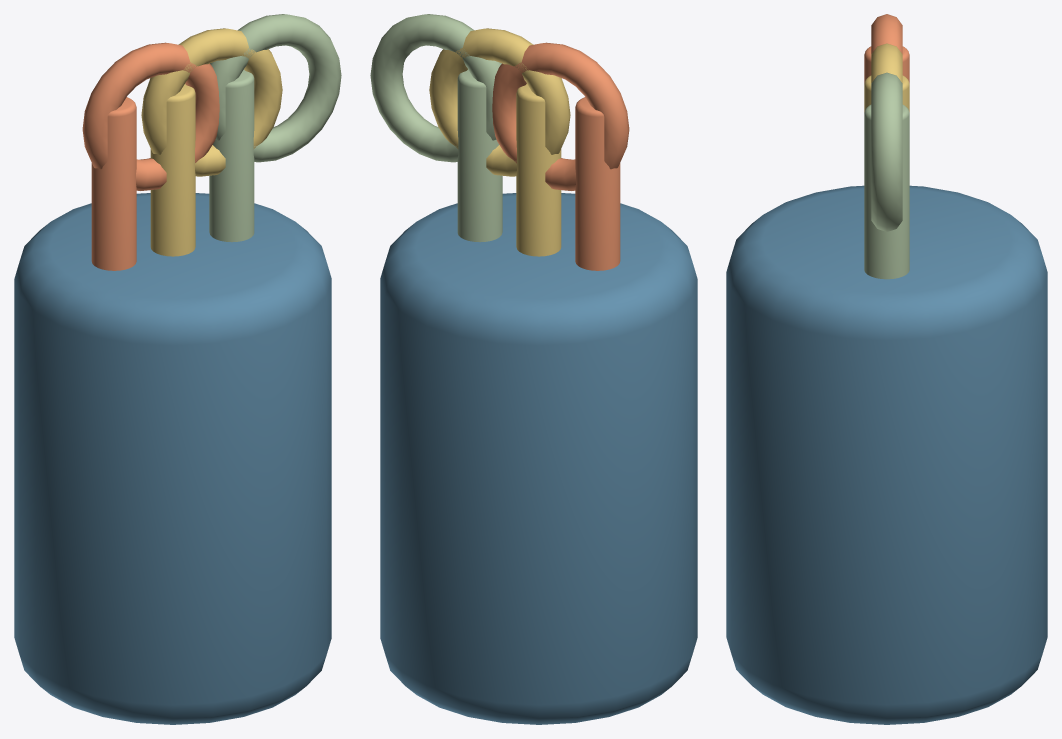
Rendered from umbrella-stand.glb.
3 renders of one model, left to right at view 1: azimuth 30°, elevation 25°; view 2: azimuth 150°, elevation 25°; view 3: azimuth 270°, elevation 25°, orthographic.
Visible parts, largest first — view 1: stand.002, handle.024, handle.022, handle.023, umbrella, umbrella.001, umbrella.002; view 2: stand.002, handle.024, handle.022, handle.023, umbrella, umbrella.001, umbrella.002; view 3: stand.002, handle.024, umbrella.002, handle.022, handle.023.
Boxes of the visible parts, x1,y1,x2,y2 form: stand.002: [14, 193, 331, 724]; handle.024: [210, 14, 341, 162]; handle.022: [82, 42, 219, 190]; handle.023: [141, 28, 282, 176]; umbrella: [91, 97, 136, 270]; umbrella.001: [150, 84, 195, 256]; umbrella.002: [209, 69, 254, 242]; stand.002: [380, 193, 697, 724]; handle.024: [370, 14, 501, 162]; handle.022: [492, 42, 629, 190]; handle.023: [429, 28, 570, 176]; umbrella: [575, 97, 620, 270]; umbrella.001: [516, 84, 561, 256]; umbrella.002: [457, 69, 502, 242]; stand.002: [726, 185, 1047, 724]; handle.024: [871, 72, 902, 231]; umbrella.002: [864, 104, 909, 279]; handle.022: [871, 14, 902, 53]; handle.023: [871, 43, 902, 82].
Bounding box in the file's own units: 0.39 × 0.772 × 0.3528.
